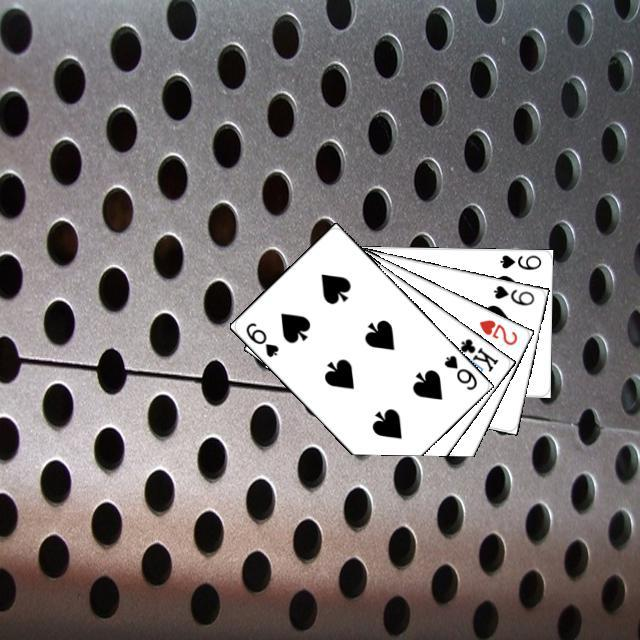2h: (474, 315, 519, 347)
6s: (439, 350, 479, 392), (241, 317, 281, 359)
9s: (489, 280, 536, 307), (495, 250, 543, 272)
Kc: (447, 333, 500, 374)
